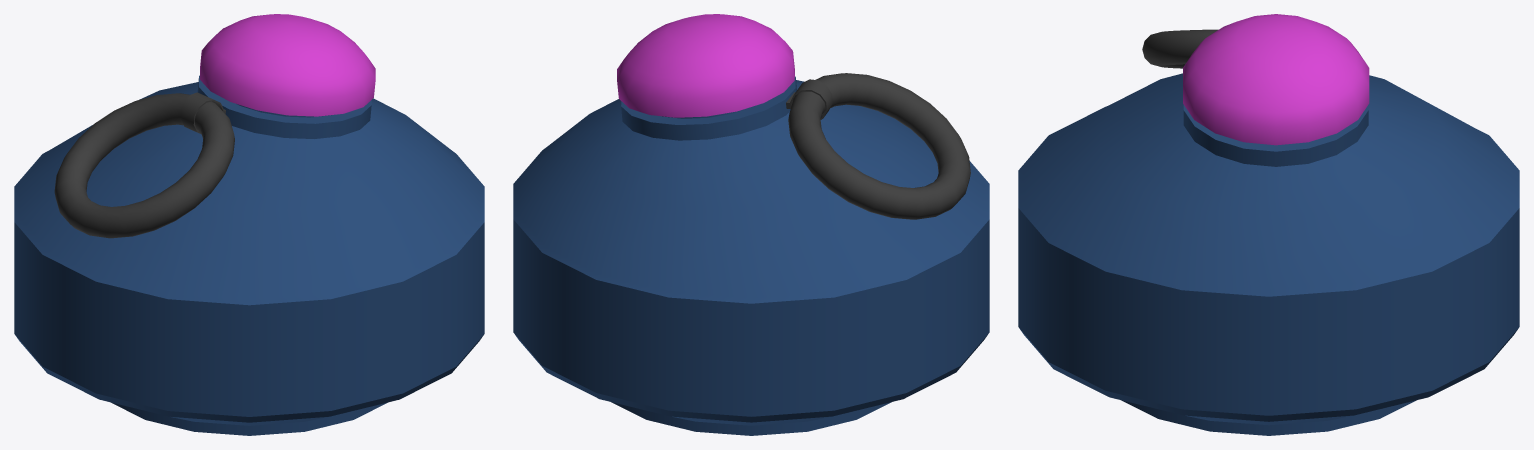
3 views of the same model, side by side, from view 1: azimuth 30°, elevation 25°; view 2: azimuth 150°, elevation 25°; view 3: azimuth 270°, elevation 25° (orthographic). The views are drawn at different scales.
Parts seen in each view (by area): view 1: Cylinder001, 对象001, 对象002; view 2: Cylinder001, 对象001, 对象002; view 3: Cylinder001, 对象002, 对象001.
Boxes of the visible parts, x1=… form: Cylinder001: x1=14, y1=82, x2=484, y2=435; 对象001: x1=54, y1=75, x2=371, y2=238; 对象002: x1=200, y1=14, x2=375, y2=116; Cylinder001: x1=513, y1=80, x2=989, y2=435; 对象001: x1=621, y1=73, x2=970, y2=219; 对象002: x1=617, y1=14, x2=794, y2=117; Cylinder001: x1=1018, y1=73, x2=1519, y2=435; 对象002: x1=1183, y1=14, x2=1369, y2=145; 对象001: x1=1142, y1=29, x2=1368, y2=166.
Bounding box in the file's own units: 59.32 × 45.34 × 58.42.
